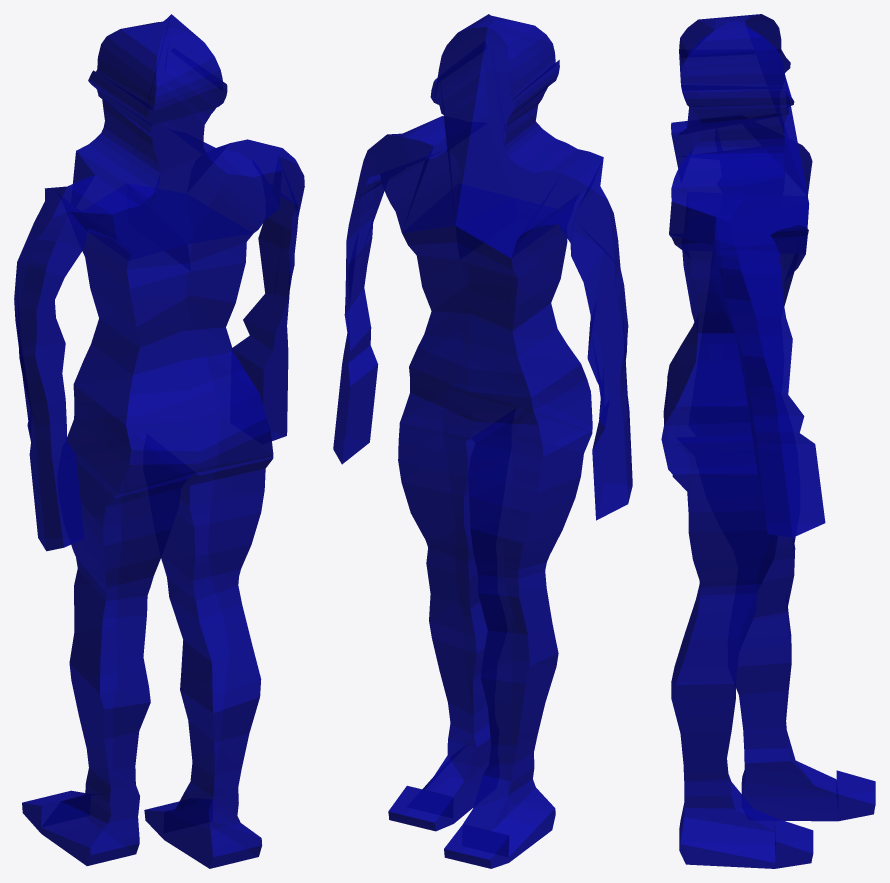
Rendered from woman_000005.obj.
The picture shows the model from 3 angles, left to right: view 1: azimuth 30°, elevation 25°; view 2: azimuth 150°, elevation 25°; view 3: azimuth 270°, elevation 25°; orthographic projection. The views are drawn at different scales.
Parts seen in each view (by area): view 1: Cube_Cube.001; view 2: Cube_Cube.001; view 3: Cube_Cube.001.
Boxes of the visible parts, x1,y1,x2,y2 form: Cube_Cube.001: (14, 14, 304, 868); Cube_Cube.001: (333, 14, 632, 868); Cube_Cube.001: (661, 14, 875, 868).
Bounding box in the file's own units: 3.52 × 9.95 × 2.37.
